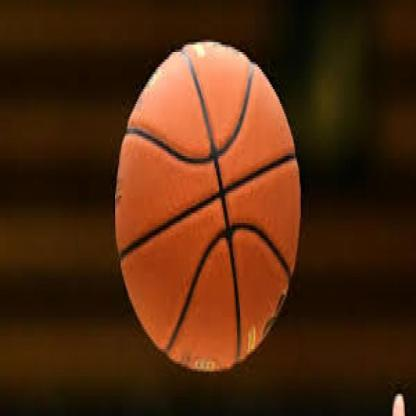basketball: (112, 42, 300, 371)
